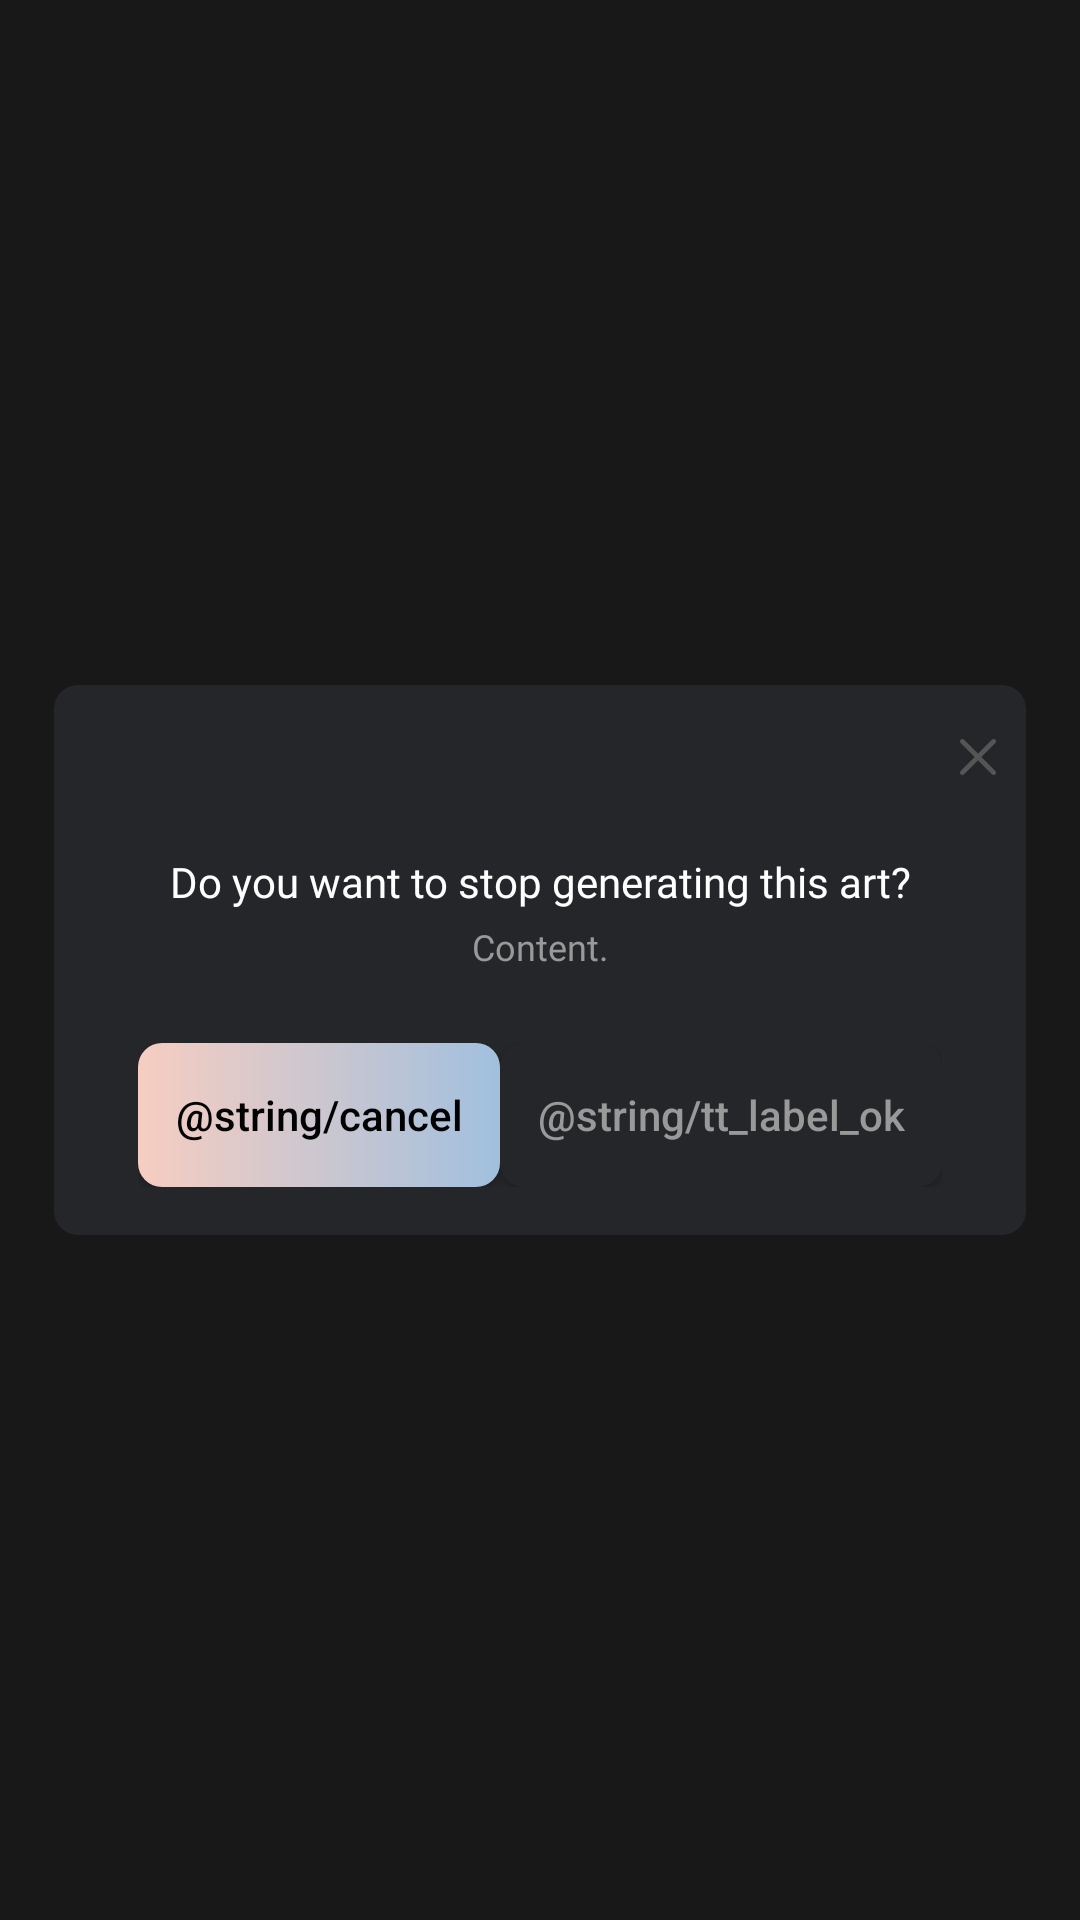

Where icons sit on this 1080×1920 app screen, as BBox(x1, y1, x2, y2):
close: BBox(960, 739, 996, 775)
